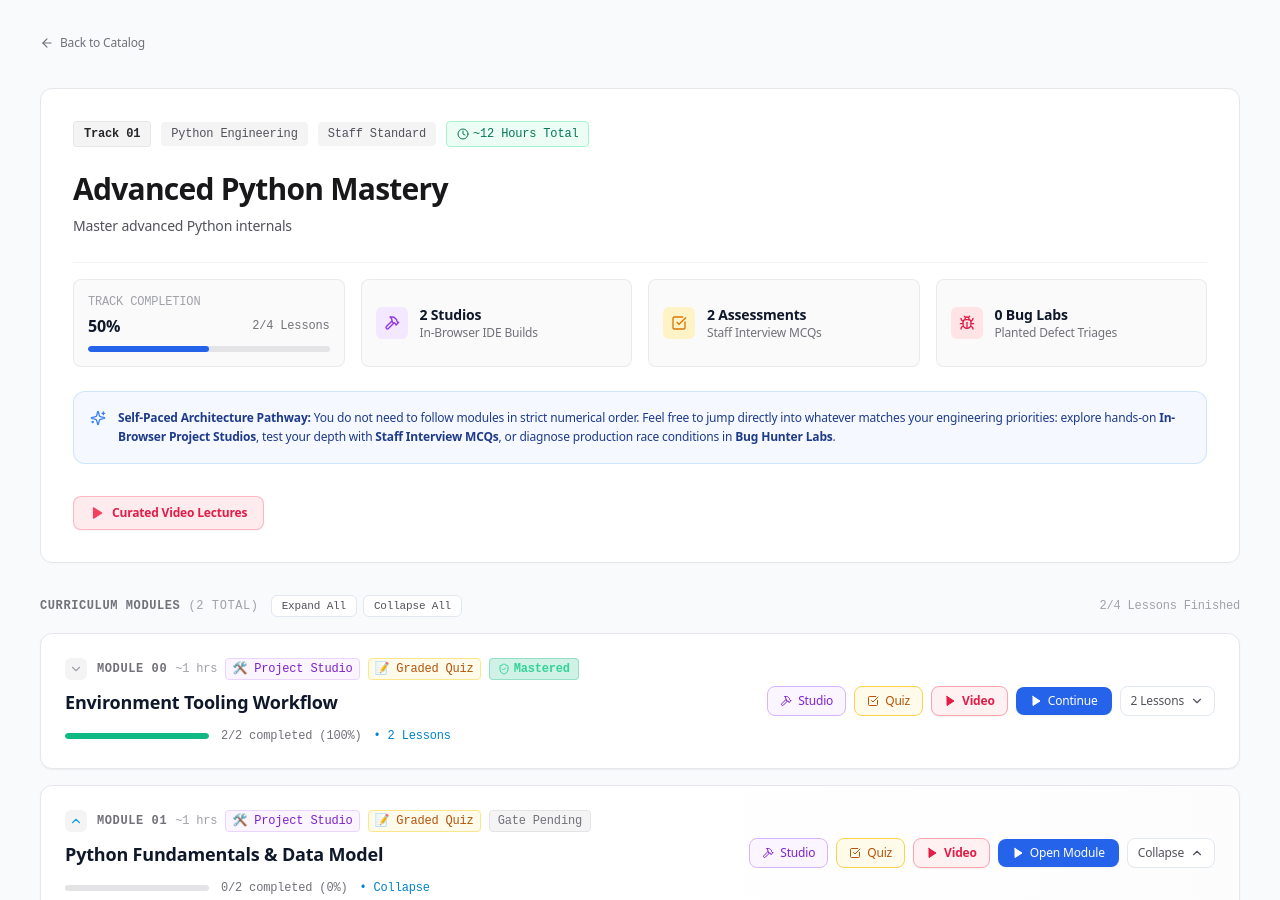
it: SyllabusView Collapsible Module Cards › renders the Curated Video Lectures button and opens modal when clicked
The image size is (1280, 900).
Click the button "Curated Video Lectures". click: coordinates (169, 513)
box: x1=73 y1=496 x2=264 y2=530
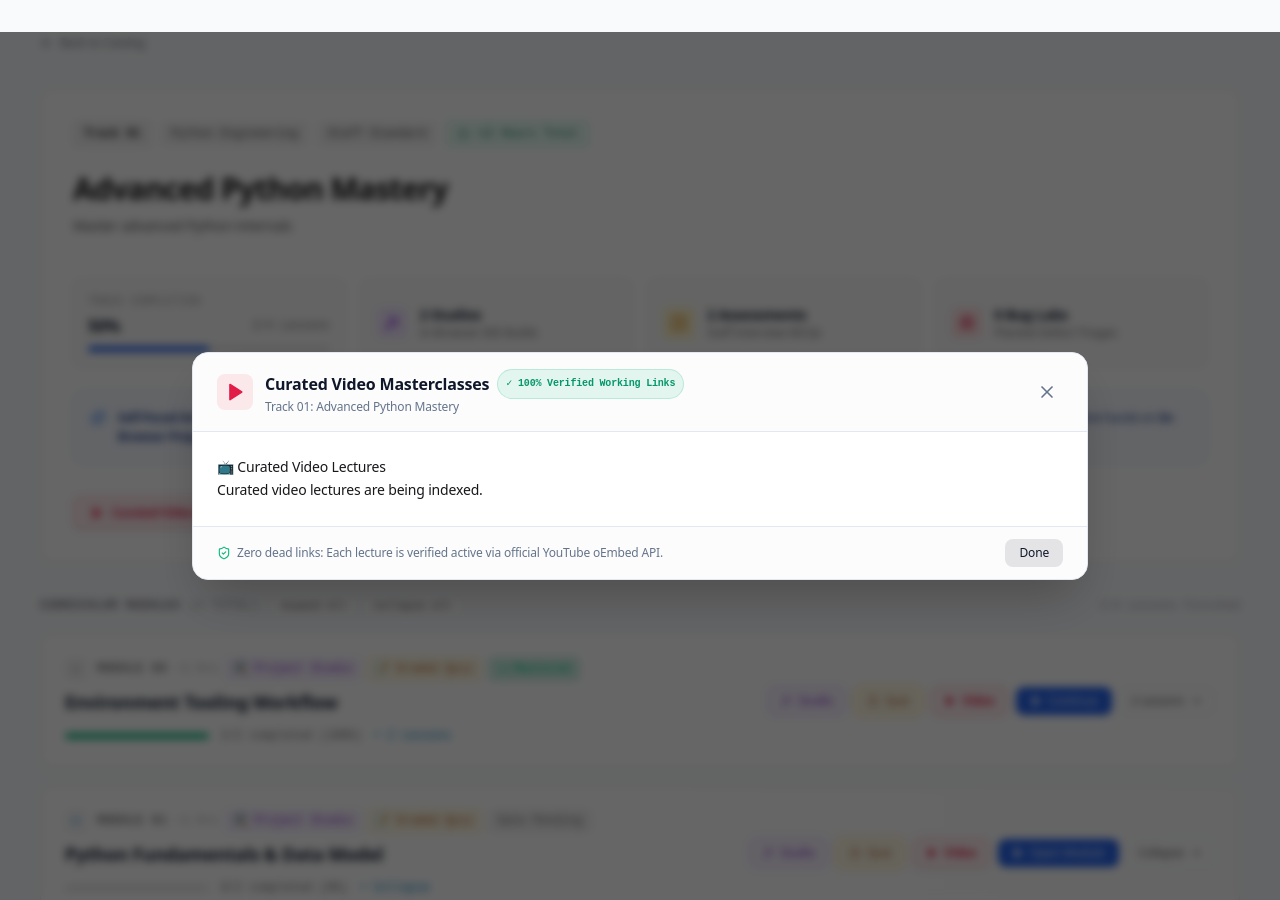
Result: the heading "Curated Video Masterclasses" is shown at x1=265 y1=373 x2=489 y2=395
Result: the text "✓ 100% Verified Working Links" is shown at x1=497 y1=369 x2=684 y2=399
